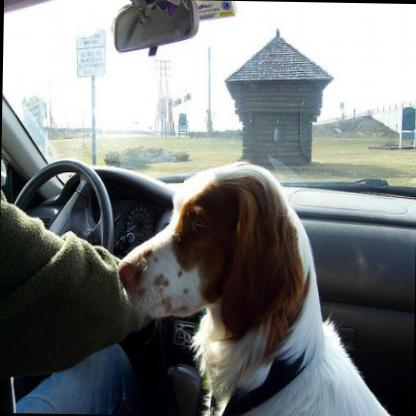Brittany_spaniel: (114, 153, 395, 416)
